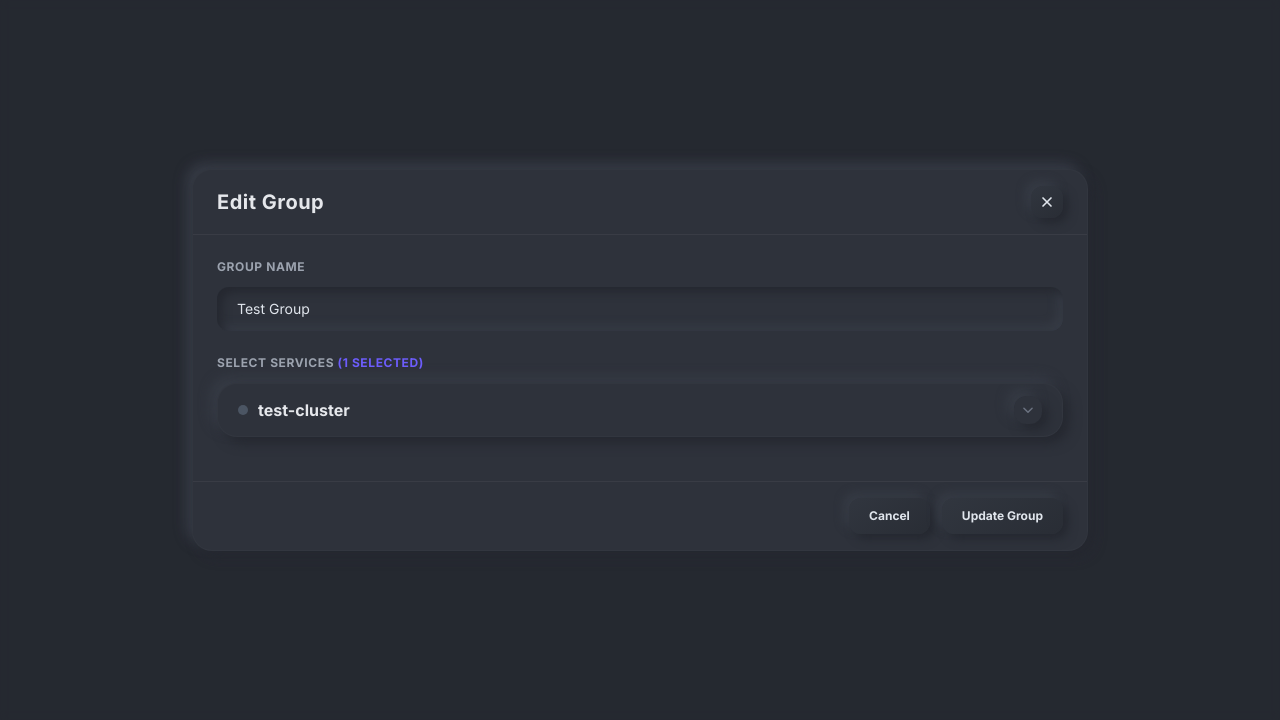
Test: GroupForm › should pre-populate services when editing an existing group
expect the text "(1 selected)" is shown: met, box x1=338 y1=355 x2=424 y2=370
Expand cluster to see the services
Click the button "test-cluster".
click(304, 410)  # box x1=218 y1=384 x2=1062 y2=436
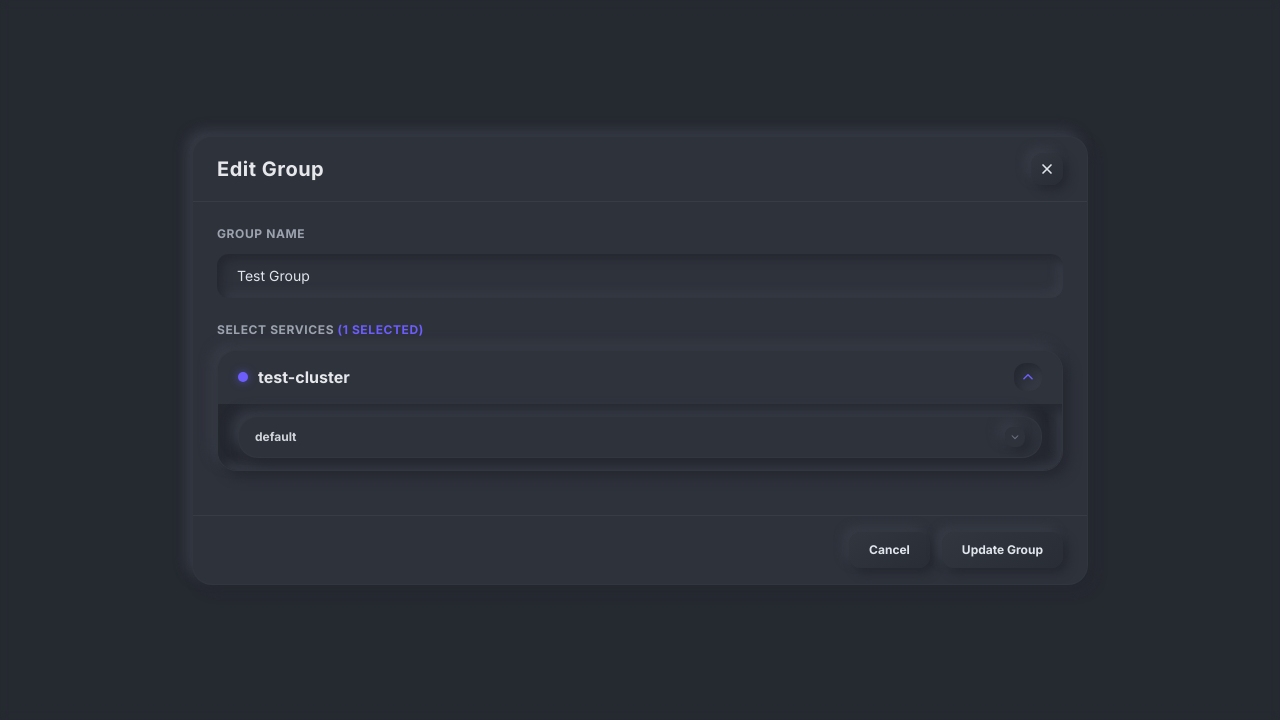
Click the button "default".
click(276, 436)  # box x1=239 y1=416 x2=1041 y2=456
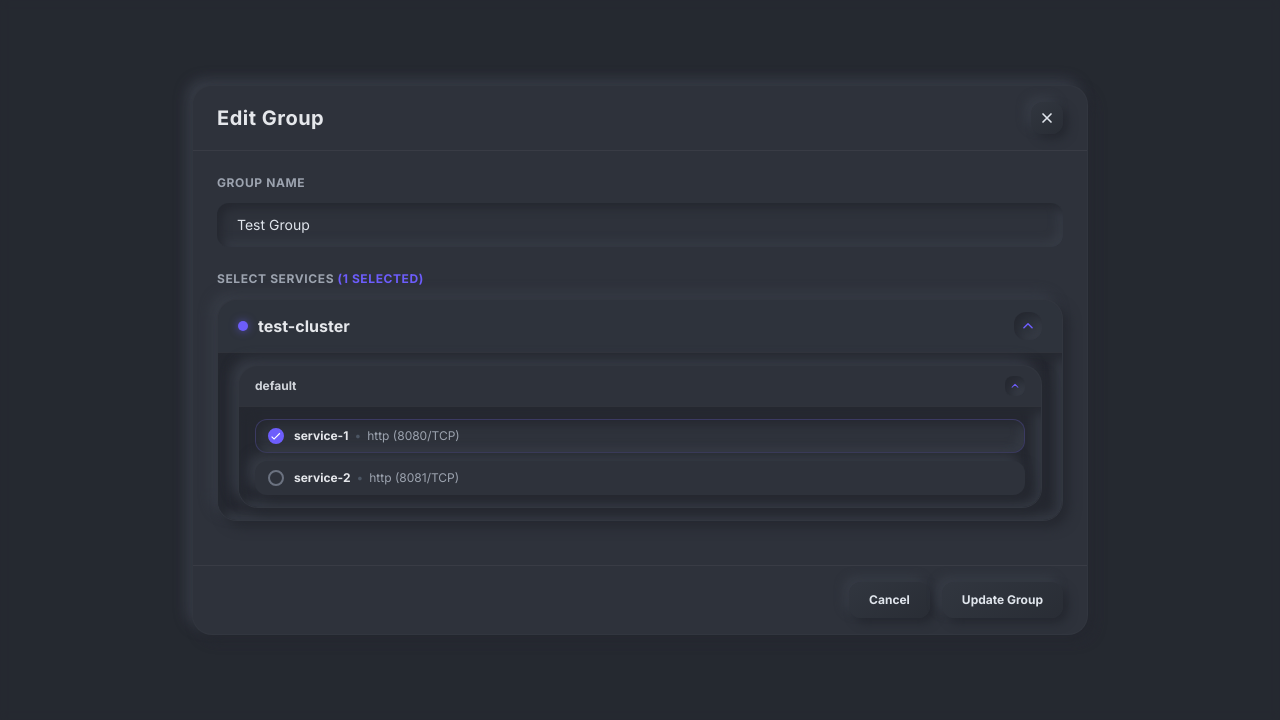
expect the checkbox labelled "service-1•http (8080/TCP)" is checked: met, box x1=255 y1=419 x2=1025 y2=453
expect the checkbox labelled "service-2•http (8081/TCP)" is not checked: met, box x1=255 y1=461 x2=1025 y2=495
